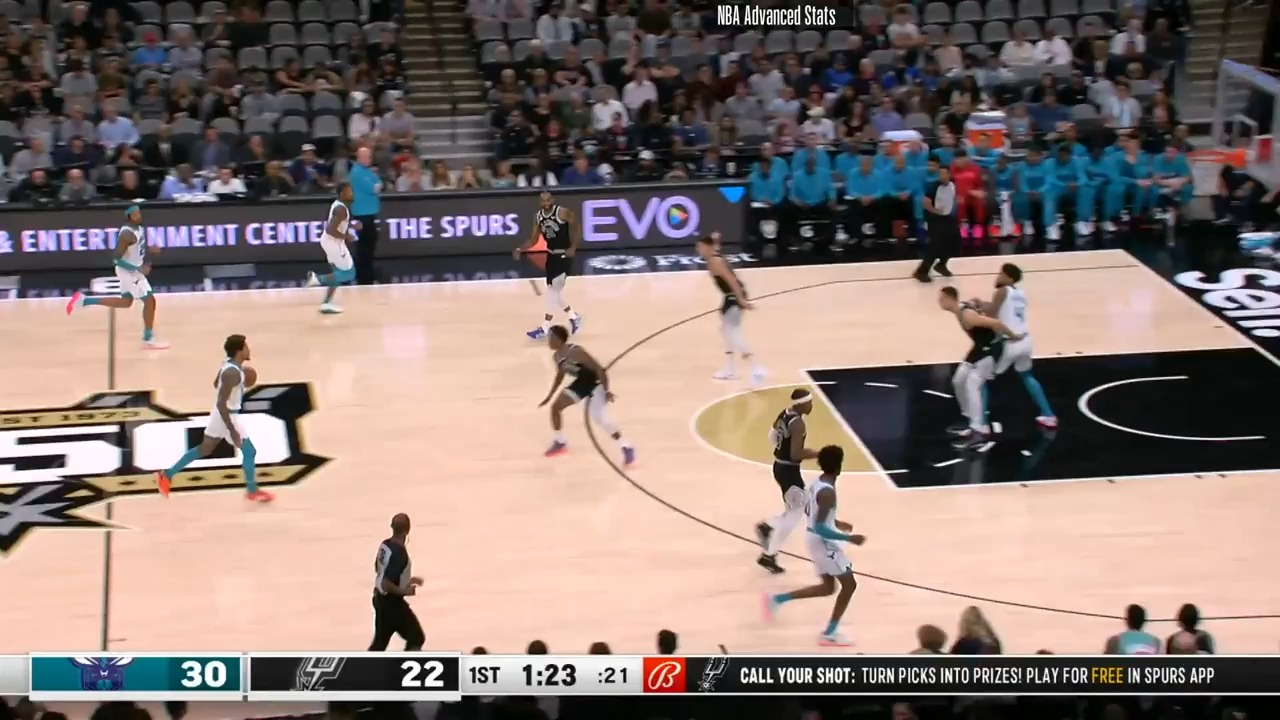net: (1183, 143, 1249, 200)
player: (765, 446, 875, 653), (157, 331, 276, 509), (963, 258, 1058, 446), (533, 324, 639, 477), (935, 284, 1022, 456), (73, 201, 170, 352), (747, 385, 819, 576), (689, 231, 768, 392), (515, 183, 585, 344), (304, 181, 357, 319)
referee: (365, 513, 436, 653), (915, 155, 976, 291)
